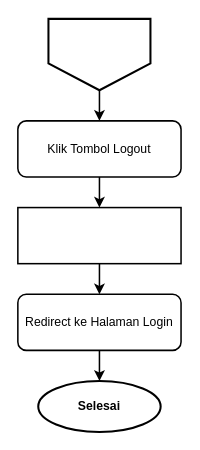
This 200x450 diagram has some shape labels left out. Here are the shapes that lost their labels. From the top down, the centre of each, then its label:
At (x=99, y=54): "Halaman Dashboard Admin".
At (x=99, y=235): "Sistem Menghapus Session".
